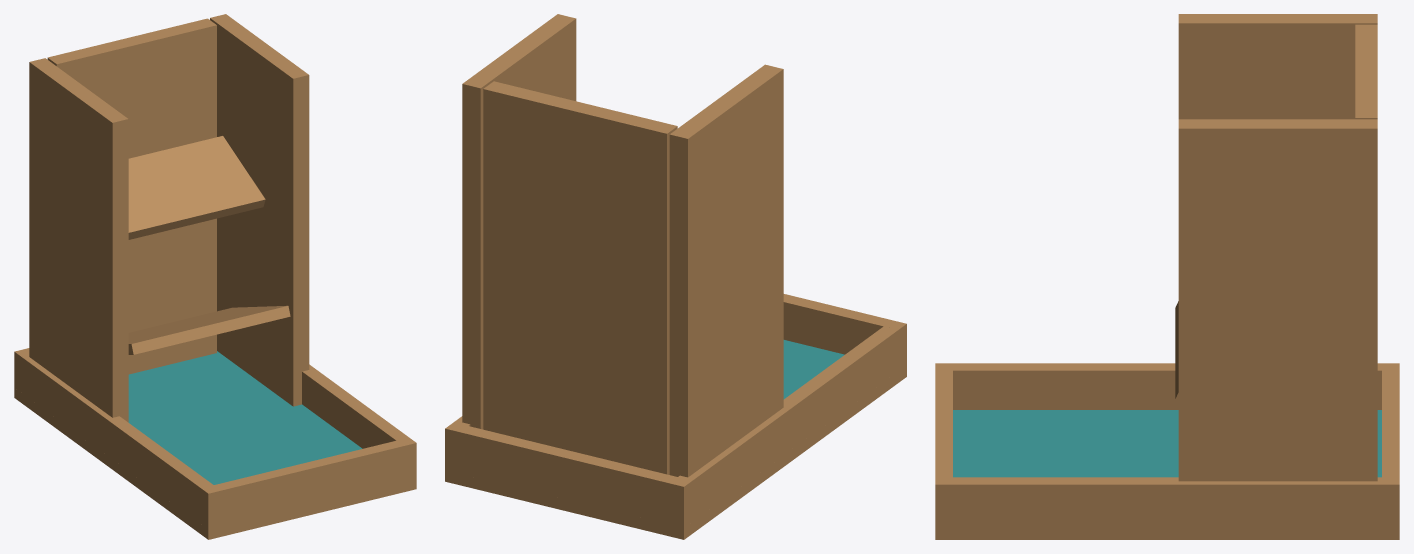
File: tabletop-game-components-dice-tower-eb5ae628__20874.glb
3 views of the same model, side by side, from view 1: azimuth 30°, elevation 25°; view 2: azimuth 150°, elevation 25°; view 3: azimuth 270°, elevation 25° (orthographic). The views are drawn at different scales.
Visible parts, largest first — view 1: dice-tower; view 2: dice-tower; view 3: dice-tower.
Boxes of the visible parts, x1=… form: dice-tower: x1=14, y1=14, x2=416, y2=539; dice-tower: x1=445, y1=14, x2=906, y2=539; dice-tower: x1=935, y1=14, x2=1399, y2=539.
Bounding box in the file's own units: 0.065 × 0.1018 × 0.105.
